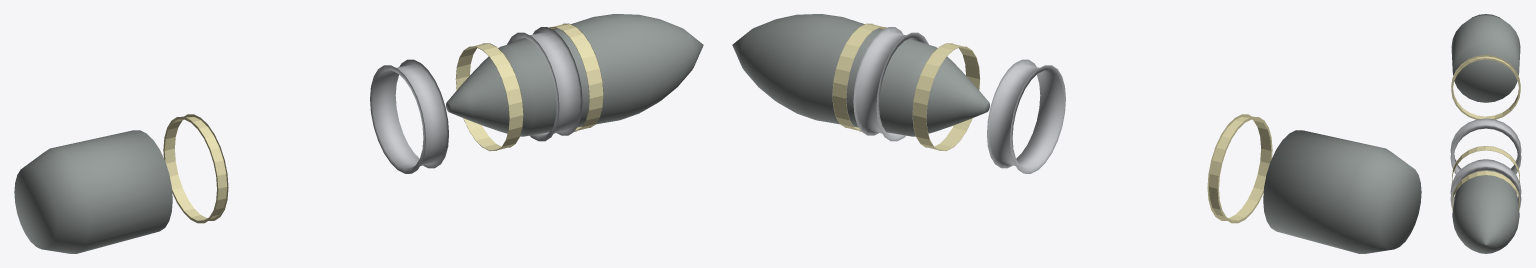
File: RU_SLBM_R29_LOD1.fbx
The picture shows the model from 3 angles, left to right: view 1: azimuth 30°, elevation 25°; view 2: azimuth 150°, elevation 25°; view 3: azimuth 270°, elevation 25°; orthographic projection. The views are drawn at different scales.
Visible parts, largest first — view 1: WPN_RU_SLBM_R29_LOD1_Body, WPN_RU_SLBM_R29_LOD1_Tail, WPN_RU_SLBM_R29_LOD1_Detail, WPN_RU_SLBM_R29_LOD1_Marking; view 2: WPN_RU_SLBM_R29_LOD1_Body, WPN_RU_SLBM_R29_LOD1_Tail, WPN_RU_SLBM_R29_LOD1_Detail, WPN_RU_SLBM_R29_LOD1_Marking; view 3: WPN_RU_SLBM_R29_LOD1_Tail, WPN_RU_SLBM_R29_LOD1_Body, WPN_RU_SLBM_R29_LOD1_Detail, WPN_RU_SLBM_R29_LOD1_Marking.
Part boxes in pixels (x1,y1,x2,y2): WPN_RU_SLBM_R29_LOD1_Body: (446,14,703,136); WPN_RU_SLBM_R29_LOD1_Tail: (14,130,172,253); WPN_RU_SLBM_R29_LOD1_Detail: (370,27,582,173); WPN_RU_SLBM_R29_LOD1_Marking: (163,23,603,223); WPN_RU_SLBM_R29_LOD1_Body: (732,14,989,136); WPN_RU_SLBM_R29_LOD1_Tail: (1263,130,1421,253); WPN_RU_SLBM_R29_LOD1_Detail: (853,27,1065,173); WPN_RU_SLBM_R29_LOD1_Marking: (832,23,1272,223); WPN_RU_SLBM_R29_LOD1_Tail: (1451,14,1520,102); WPN_RU_SLBM_R29_LOD1_Body: (1452,159,1519,253); WPN_RU_SLBM_R29_LOD1_Detail: (1450,118,1521,207); WPN_RU_SLBM_R29_LOD1_Marking: (1451,55,1520,210).
Size of the model in its own units: 13 by 1.89 by 1.89.
